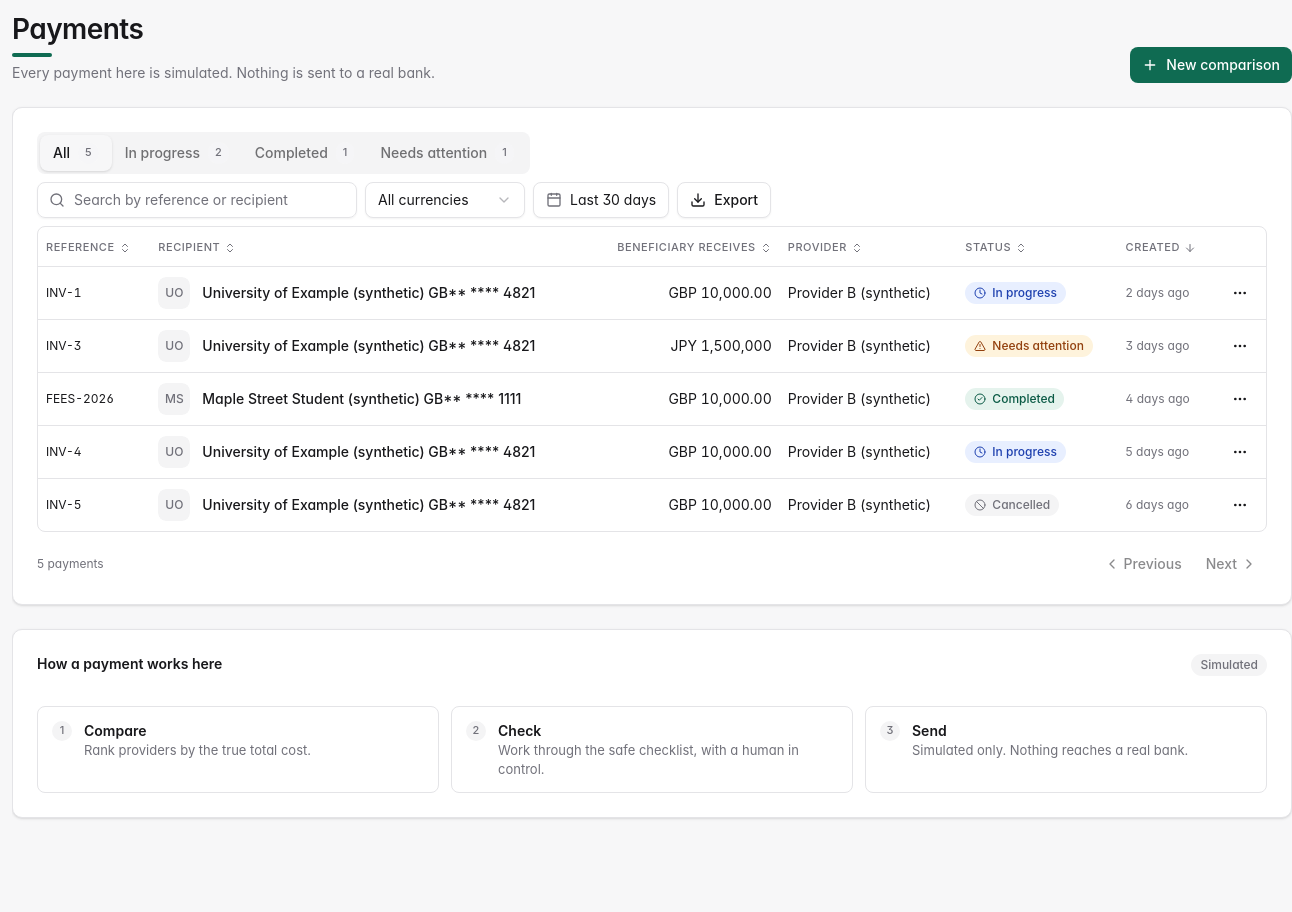
Test: payments list: states › shows a different empty state, with Clear filters, when nothing matches
In the search field labelled "Search by reference or recipient": [197, 200] box [37,182,357,218], type "zzz-nothing"
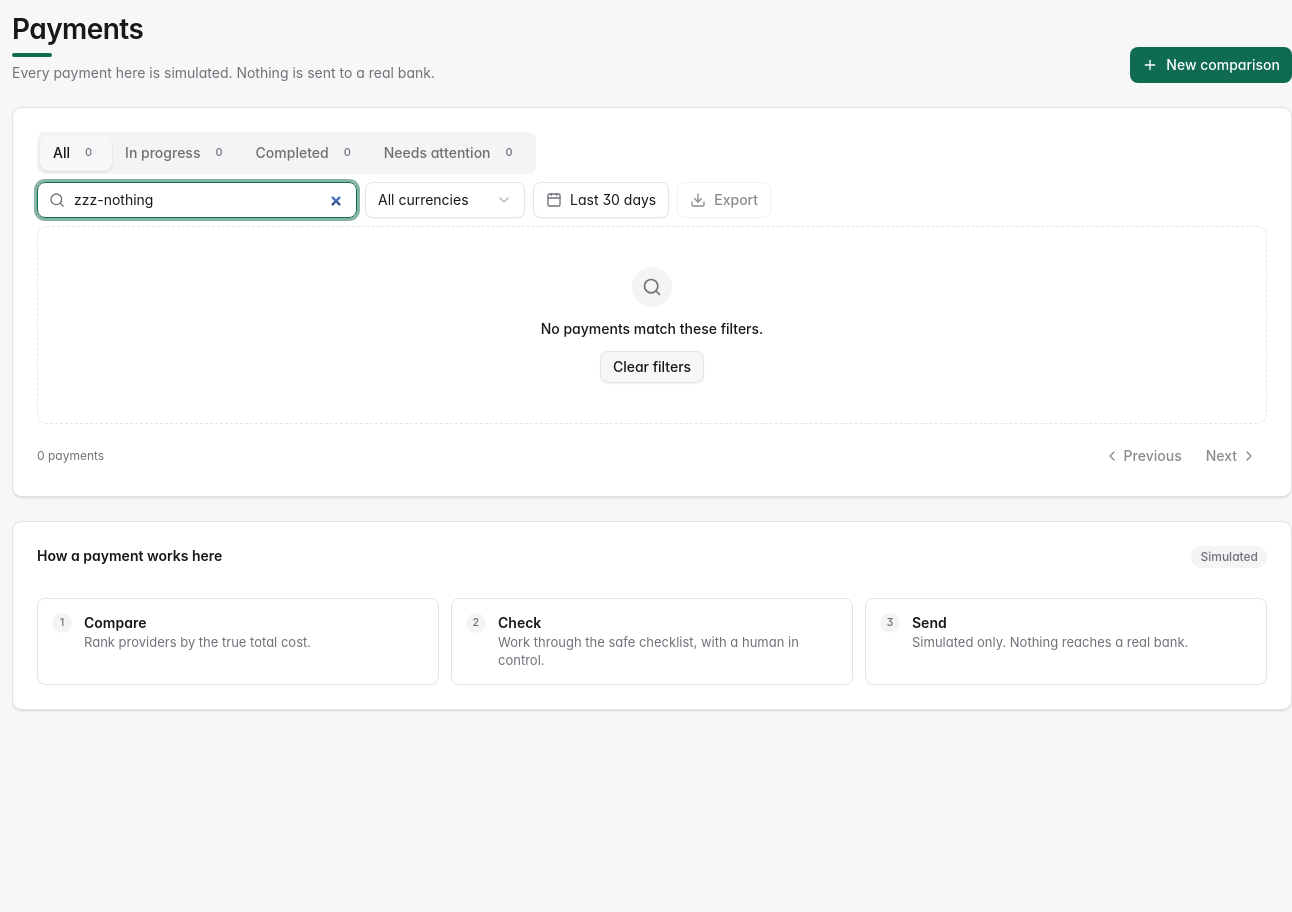
Check: the text "No payments match these filters." is shown, box [541,319,763,339]
Click the button "Clear filters": [652, 367] box [600,351,704,383]
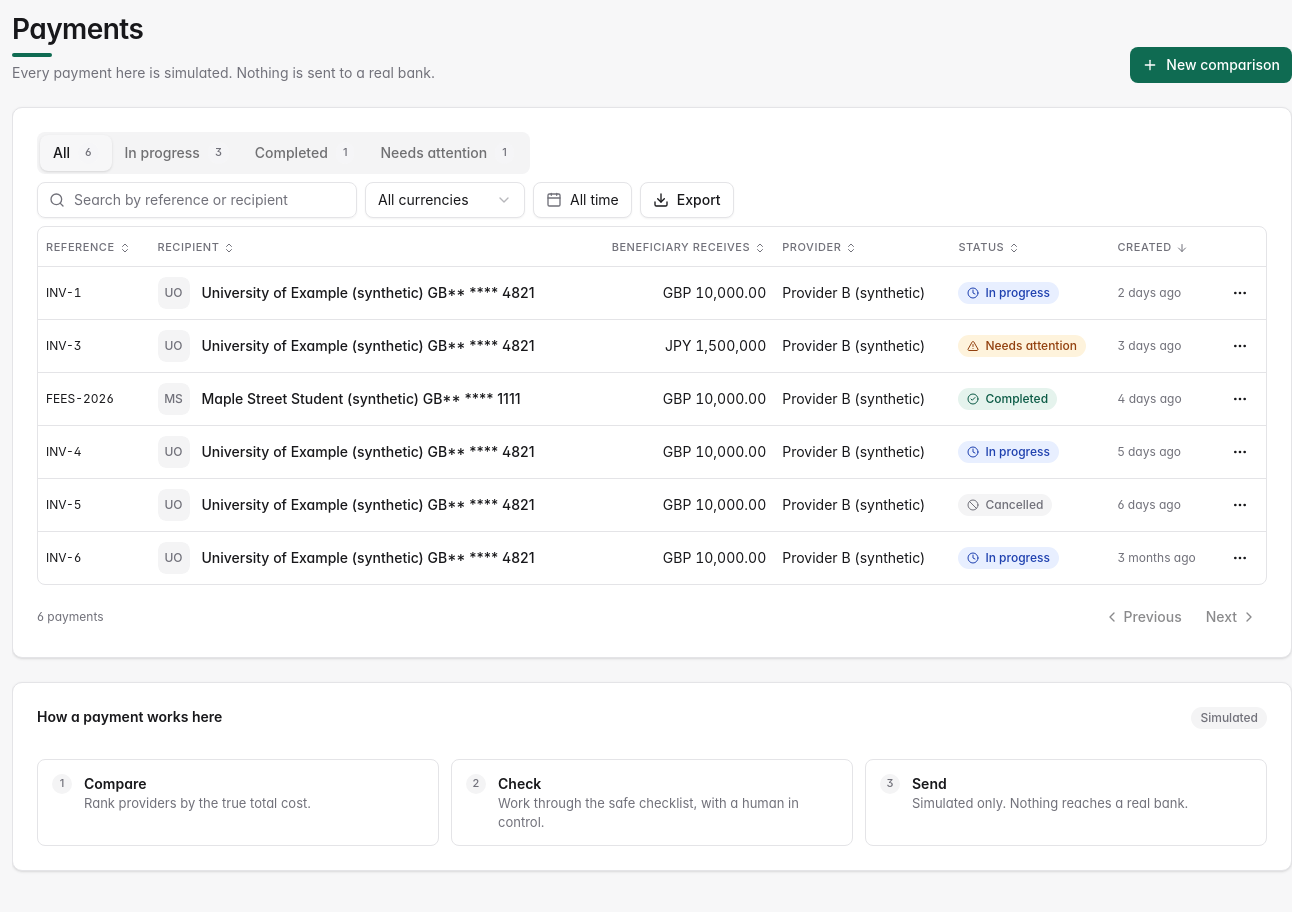
Check: the element named "Payments table" is shown, box [37,226,1267,585]
Check: the search field labelled "Search by reference or recipient" is empty, box [37,182,357,218]
Check: the text "6 payments" is shown, box [37,609,104,625]
